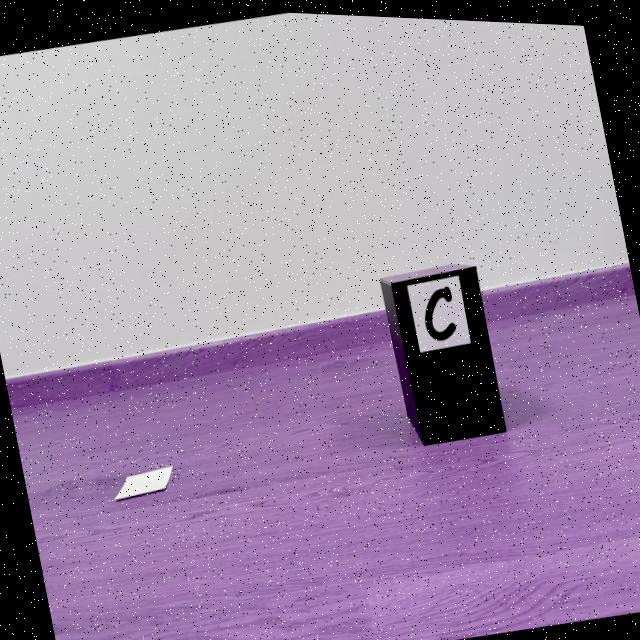C: (424, 282, 456, 338)
